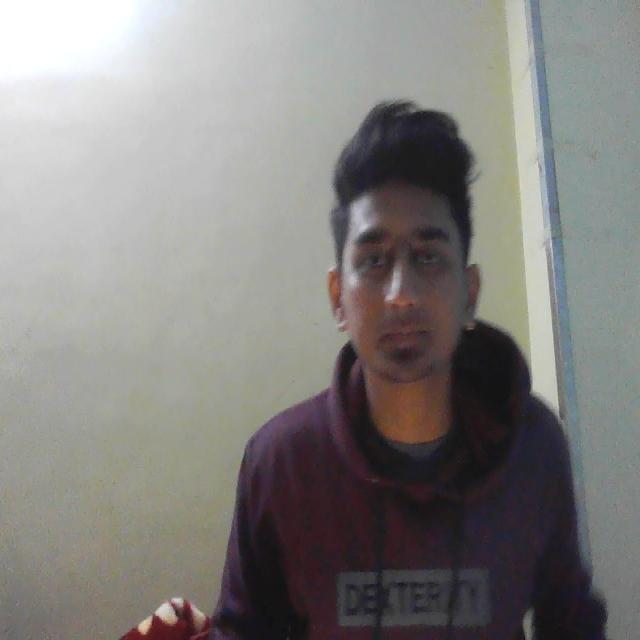real: (330, 117, 486, 412)
